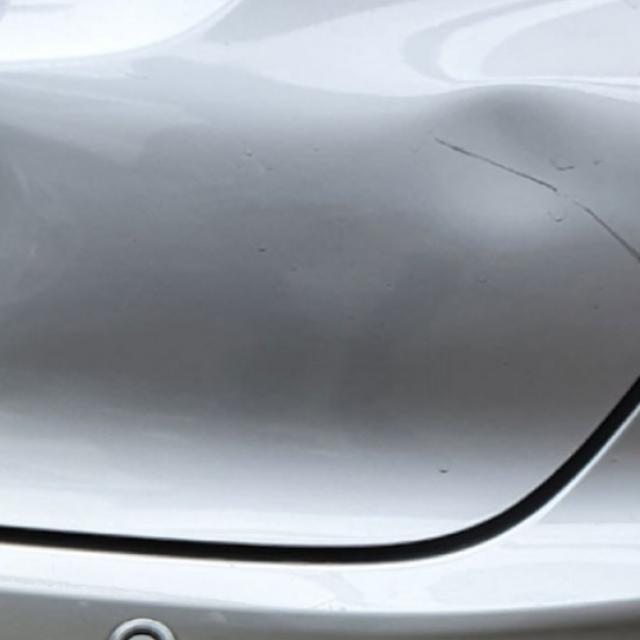dents: (407, 92, 630, 252)
